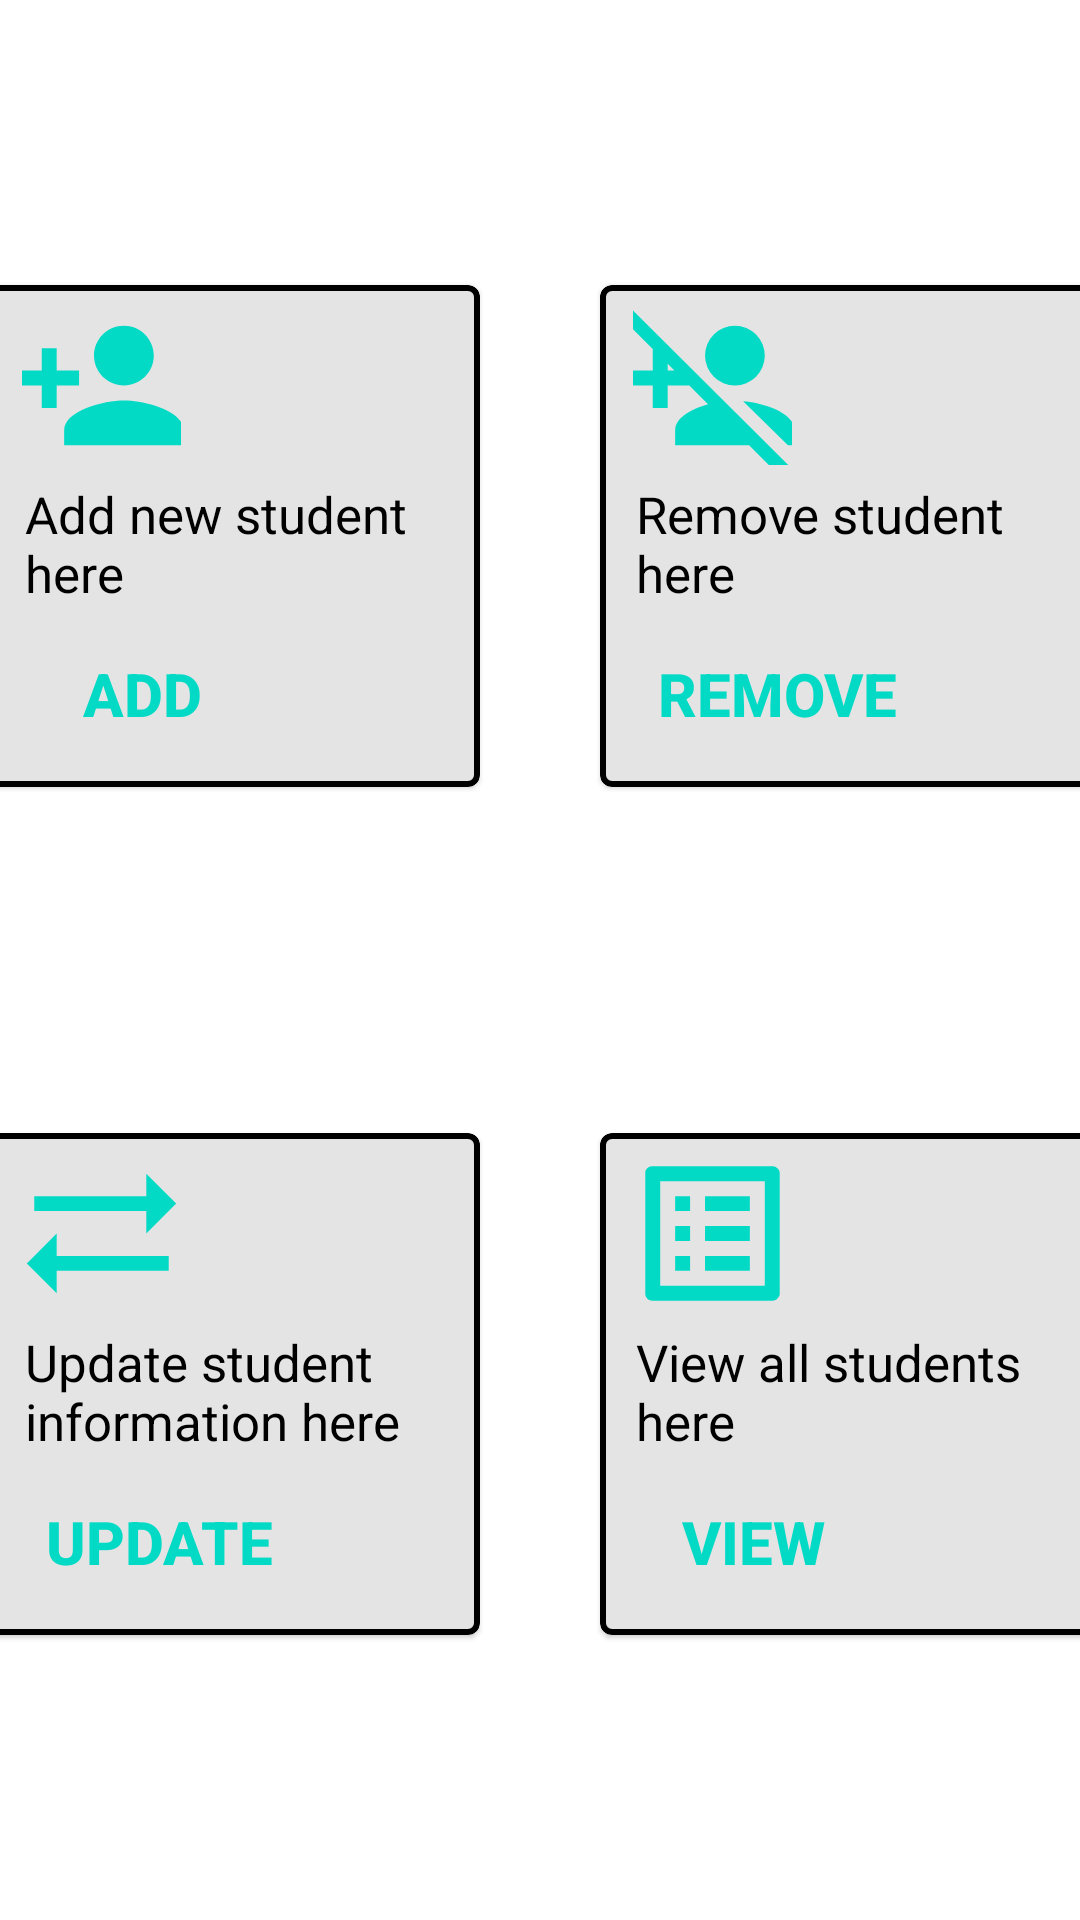

Icons on this 1080 x 1920 Android screen, each with the point to tap as (x,y):
addperson: (101,385)
allperson: (712,1233)
removeperson: (712,387)
